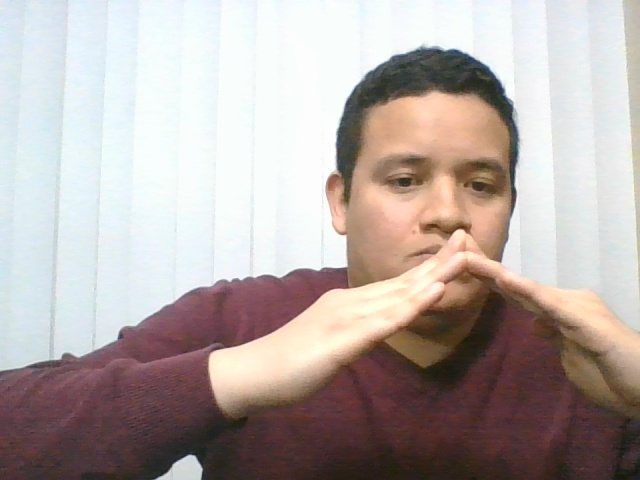House: (120, 206, 630, 465)
